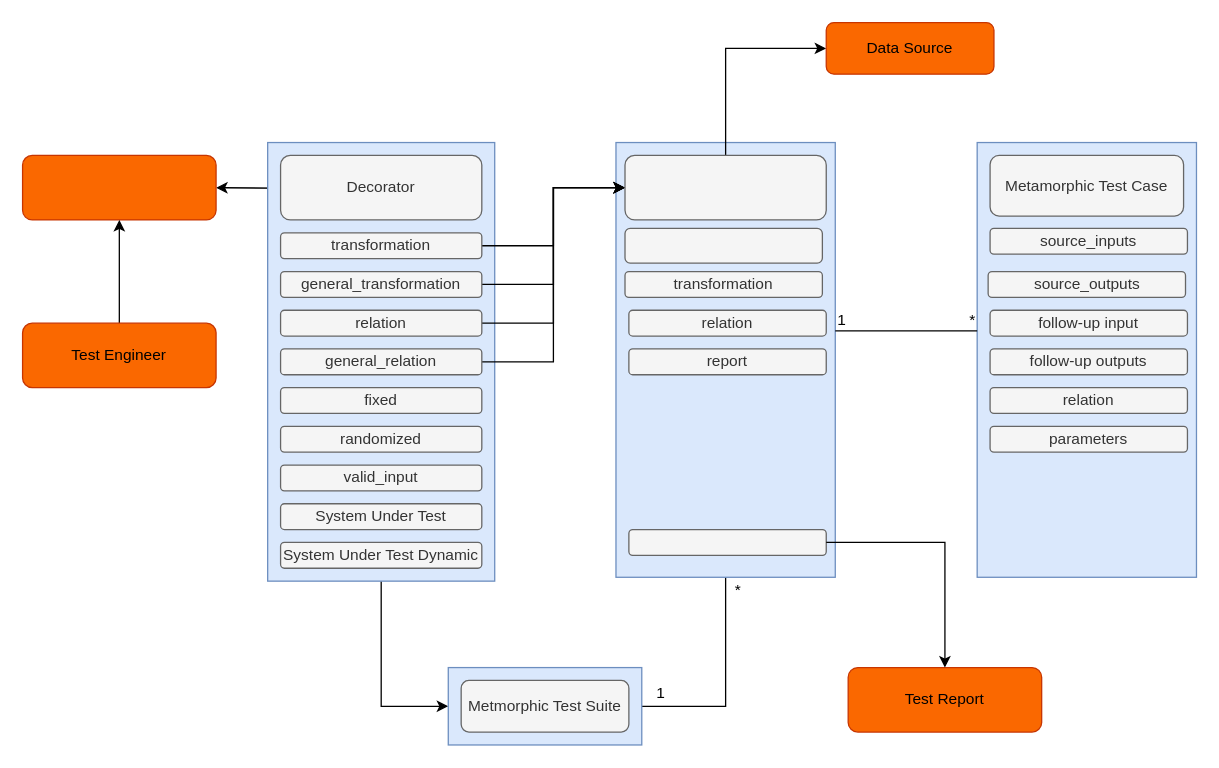
Image size: 1219x768. Some labels were removed from this diagram. Here are the shapes that lost their labels. From the top down, the centre of each, then its label:
At (x=118, y=187): "Test Specificiation File".
At (x=725, y=187): "Metamorphic Relation".
At (x=723, y=245): "name".
At (x=727, y=541): "execute_tests".
